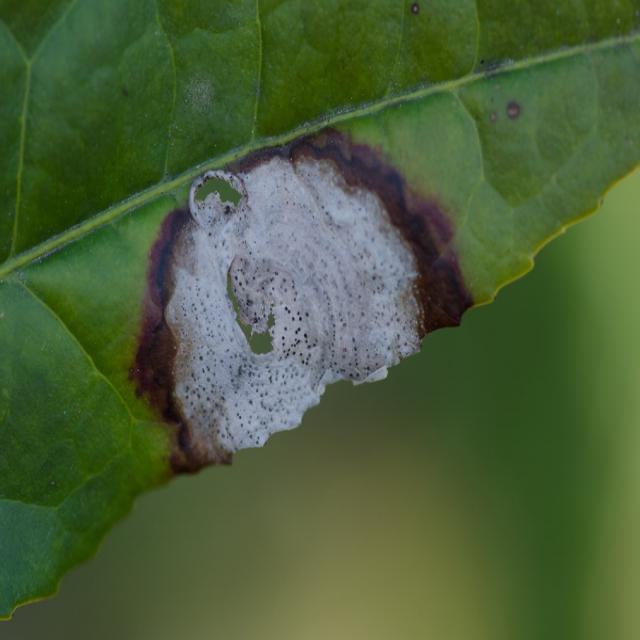Tea cloud leaf blight: (139, 126, 490, 458)
